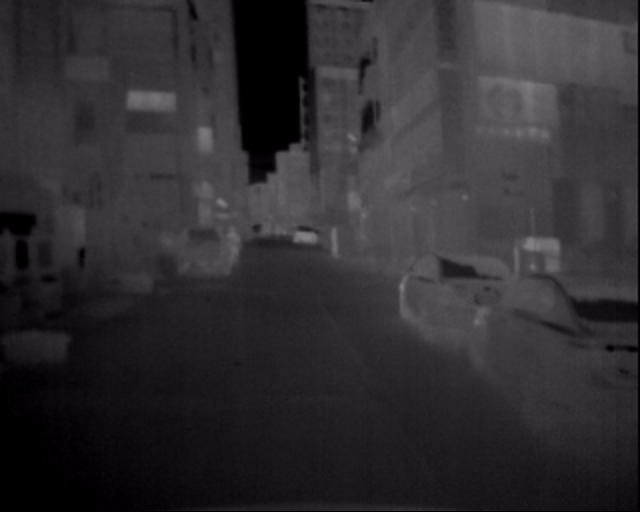person: (226, 214, 247, 269)
